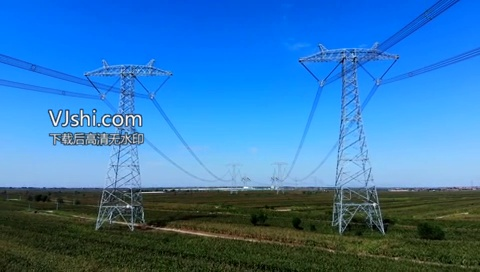tower_body: (294, 38, 405, 235)
tower_foot: (330, 173, 385, 232)
tower_head: (298, 42, 402, 65)
